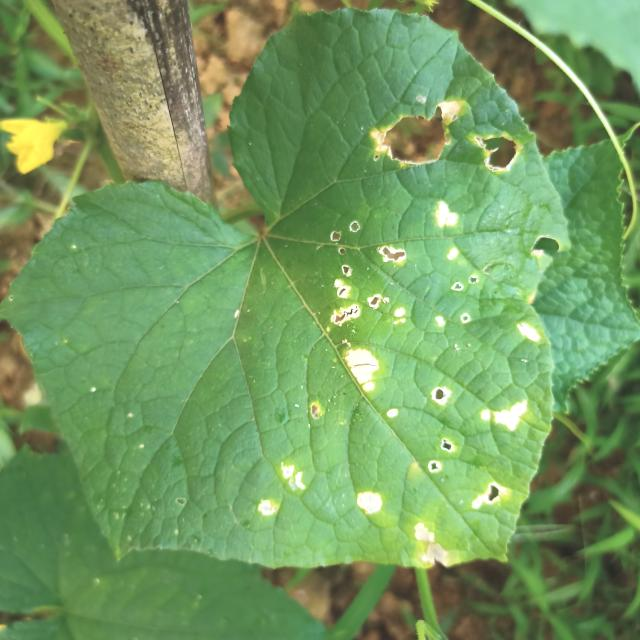disease_cucumber: (315, 216, 410, 335), (362, 97, 468, 172), (254, 462, 306, 520), (471, 133, 523, 179), (339, 343, 380, 399), (480, 397, 529, 434), (414, 521, 446, 565), (422, 438, 454, 476), (431, 197, 463, 234), (471, 480, 507, 511), (513, 317, 544, 350), (356, 490, 382, 517), (428, 386, 449, 405)
